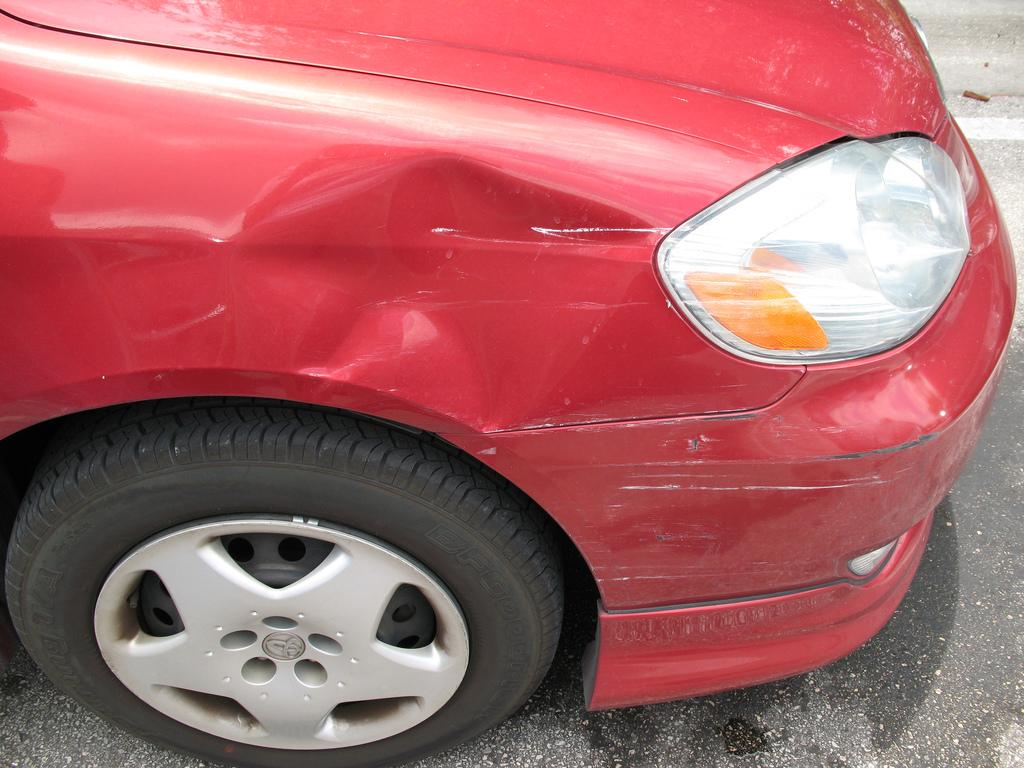dent: (228, 130, 682, 458)
scratch: (275, 188, 698, 390), (605, 422, 908, 605)
